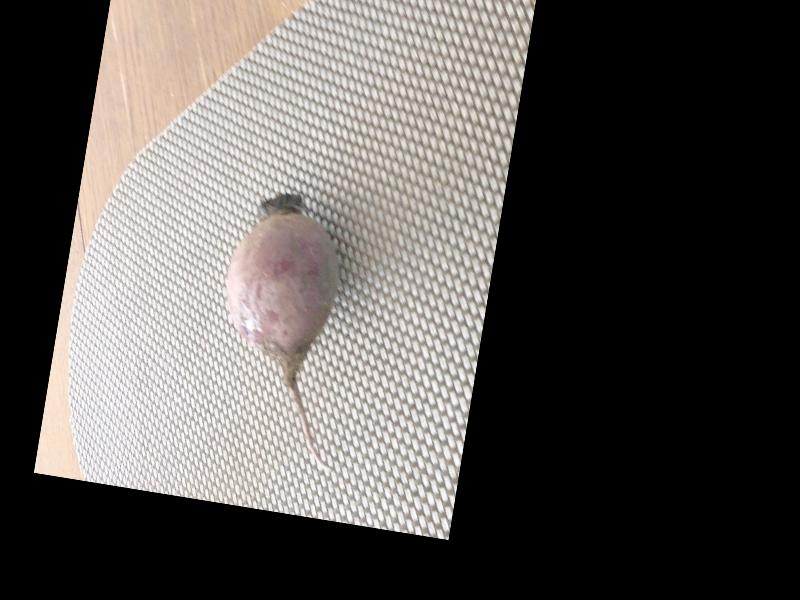Beet: (199, 184, 374, 471)
